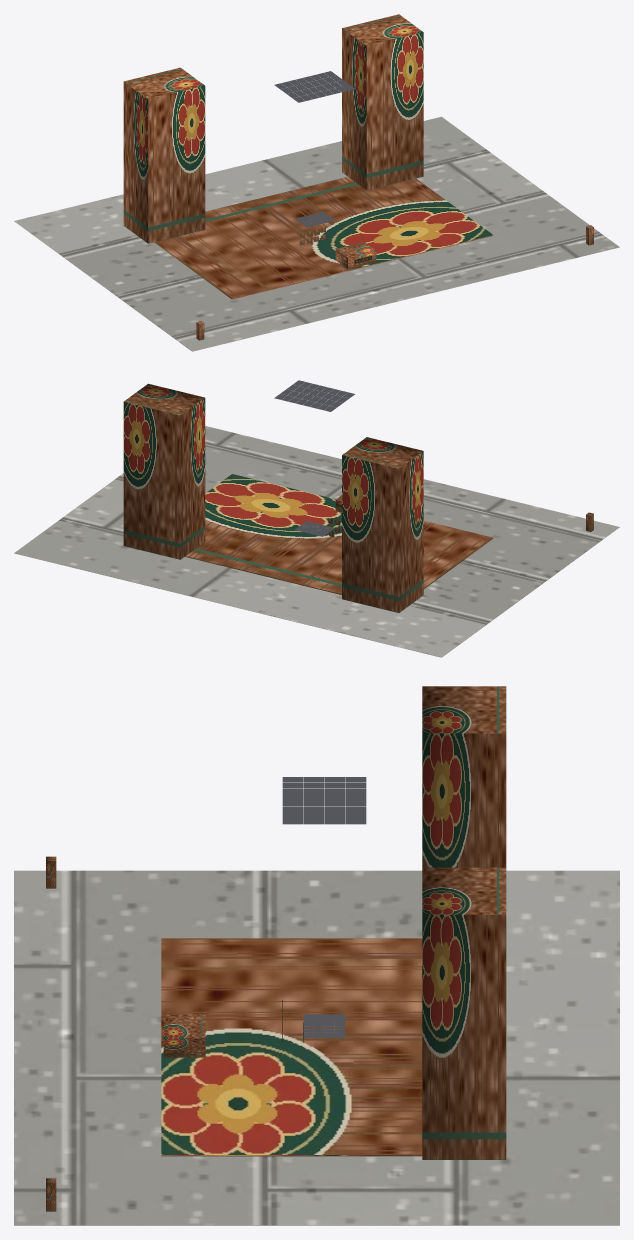
3 renders of one model, top to bottom at view 1: azimuth 30°, elevation 25°; view 2: azimuth 150°, elevation 25°; view 3: azimuth 270°, elevation 25°, orthographic. The views are drawn at different scales.
Parts seen in each view (by area): view 1: 11710_01_05768_044_02_L2__body, 11710_01_05768_044_01_L2__base, 11710_01_05768_044_03_L2__roof; view 2: 11710_01_05768_044_02_L2__body, 11710_01_05768_044_01_L2__base, 11710_01_05768_044_03_L2__roof; view 3: 11710_01_05768_044_01_L2__base, 11710_01_05768_044_02_L2__body, 11710_01_05768_044_03_L2__roof, 11710_01_05768_044_06_L2__green.
Part boxes in pixels (<box>): 11710_01_05768_044_02_L2__body: <box>123,14,493,299</box>; 11710_01_05768_044_01_L2__base: <box>14,116,619,351</box>; 11710_01_05768_044_03_L2__roof: <box>274,71,354,227</box>; 11710_01_05768_044_02_L2__body: <box>123,383,493,612</box>; 11710_01_05768_044_01_L2__base: <box>14,426,619,657</box>; 11710_01_05768_044_03_L2__roof: <box>274,380,354,536</box>; 11710_01_05768_044_01_L2__base: <box>14,870,619,1225</box>; 11710_01_05768_044_02_L2__body: <box>161,686,506,1159</box>; 11710_01_05768_044_03_L2__roof: <box>282,777,366,1037</box>; 11710_01_05768_044_06_L2__green: <box>46,856,56,1211</box>.
Size of the model in its own units: 180 by 58.62 by 130.
Materials: 5 (5 with a texture image).
